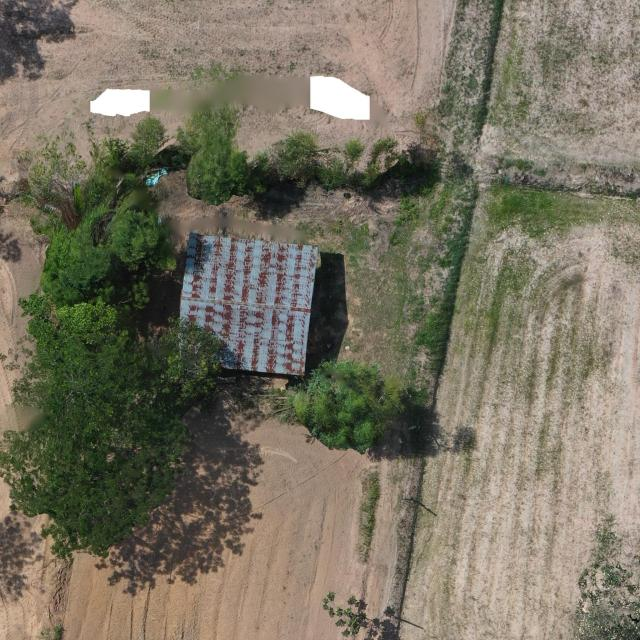blur tree: (11, 314, 227, 432), (0, 431, 178, 565), (30, 172, 177, 312), (291, 357, 406, 455), (56, 301, 126, 347), (322, 590, 362, 638)
